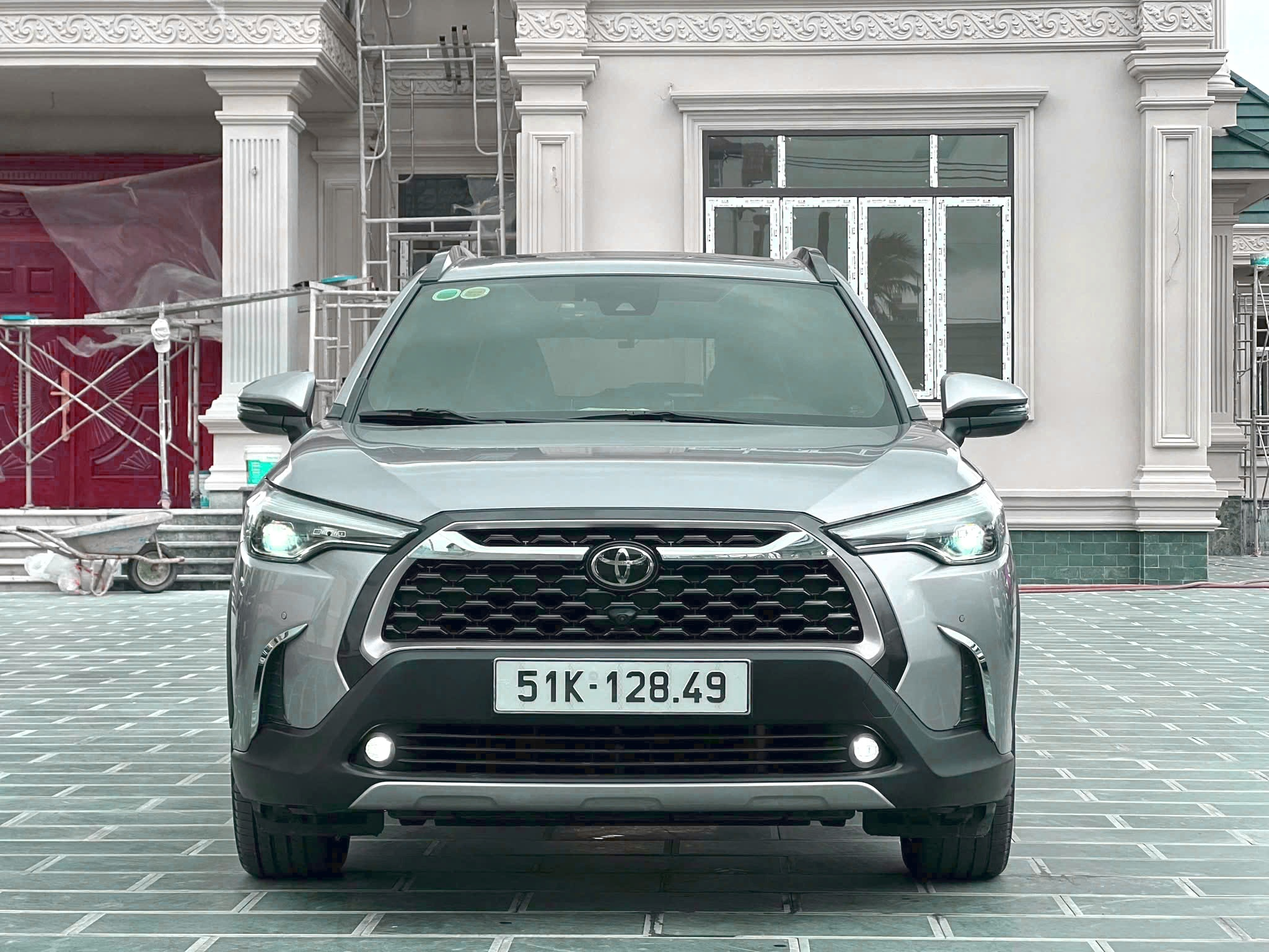Bien-so: (449, 651, 707, 722)
